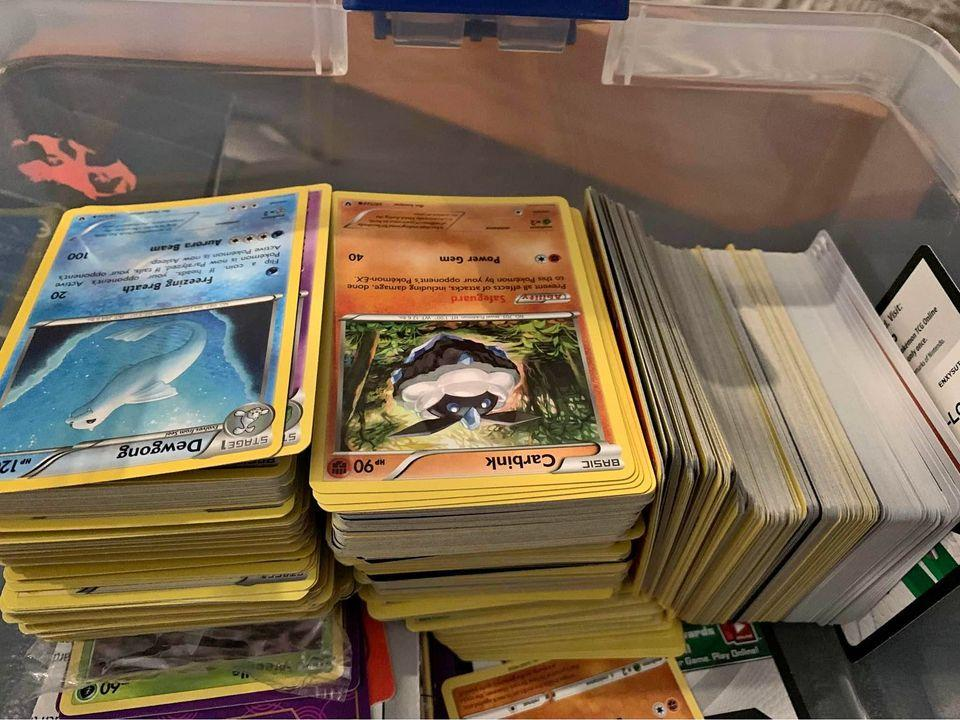card: (306, 188, 637, 495), (0, 182, 310, 492)
